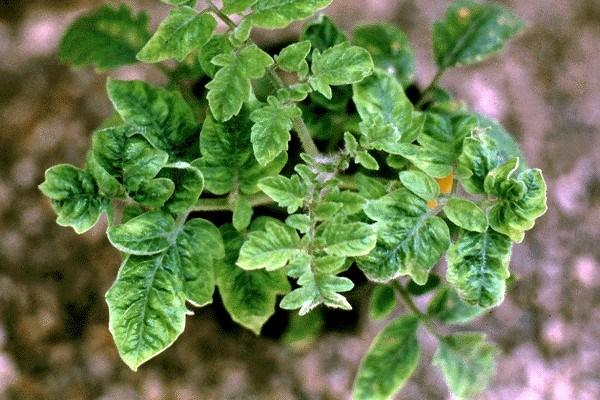Tomato leaf: (100, 210, 213, 380), (361, 190, 466, 295), (439, 219, 535, 317), (100, 77, 200, 170), (203, 39, 275, 128), (353, 66, 421, 141), (237, 218, 313, 283), (302, 41, 380, 100), (311, 212, 386, 266)
